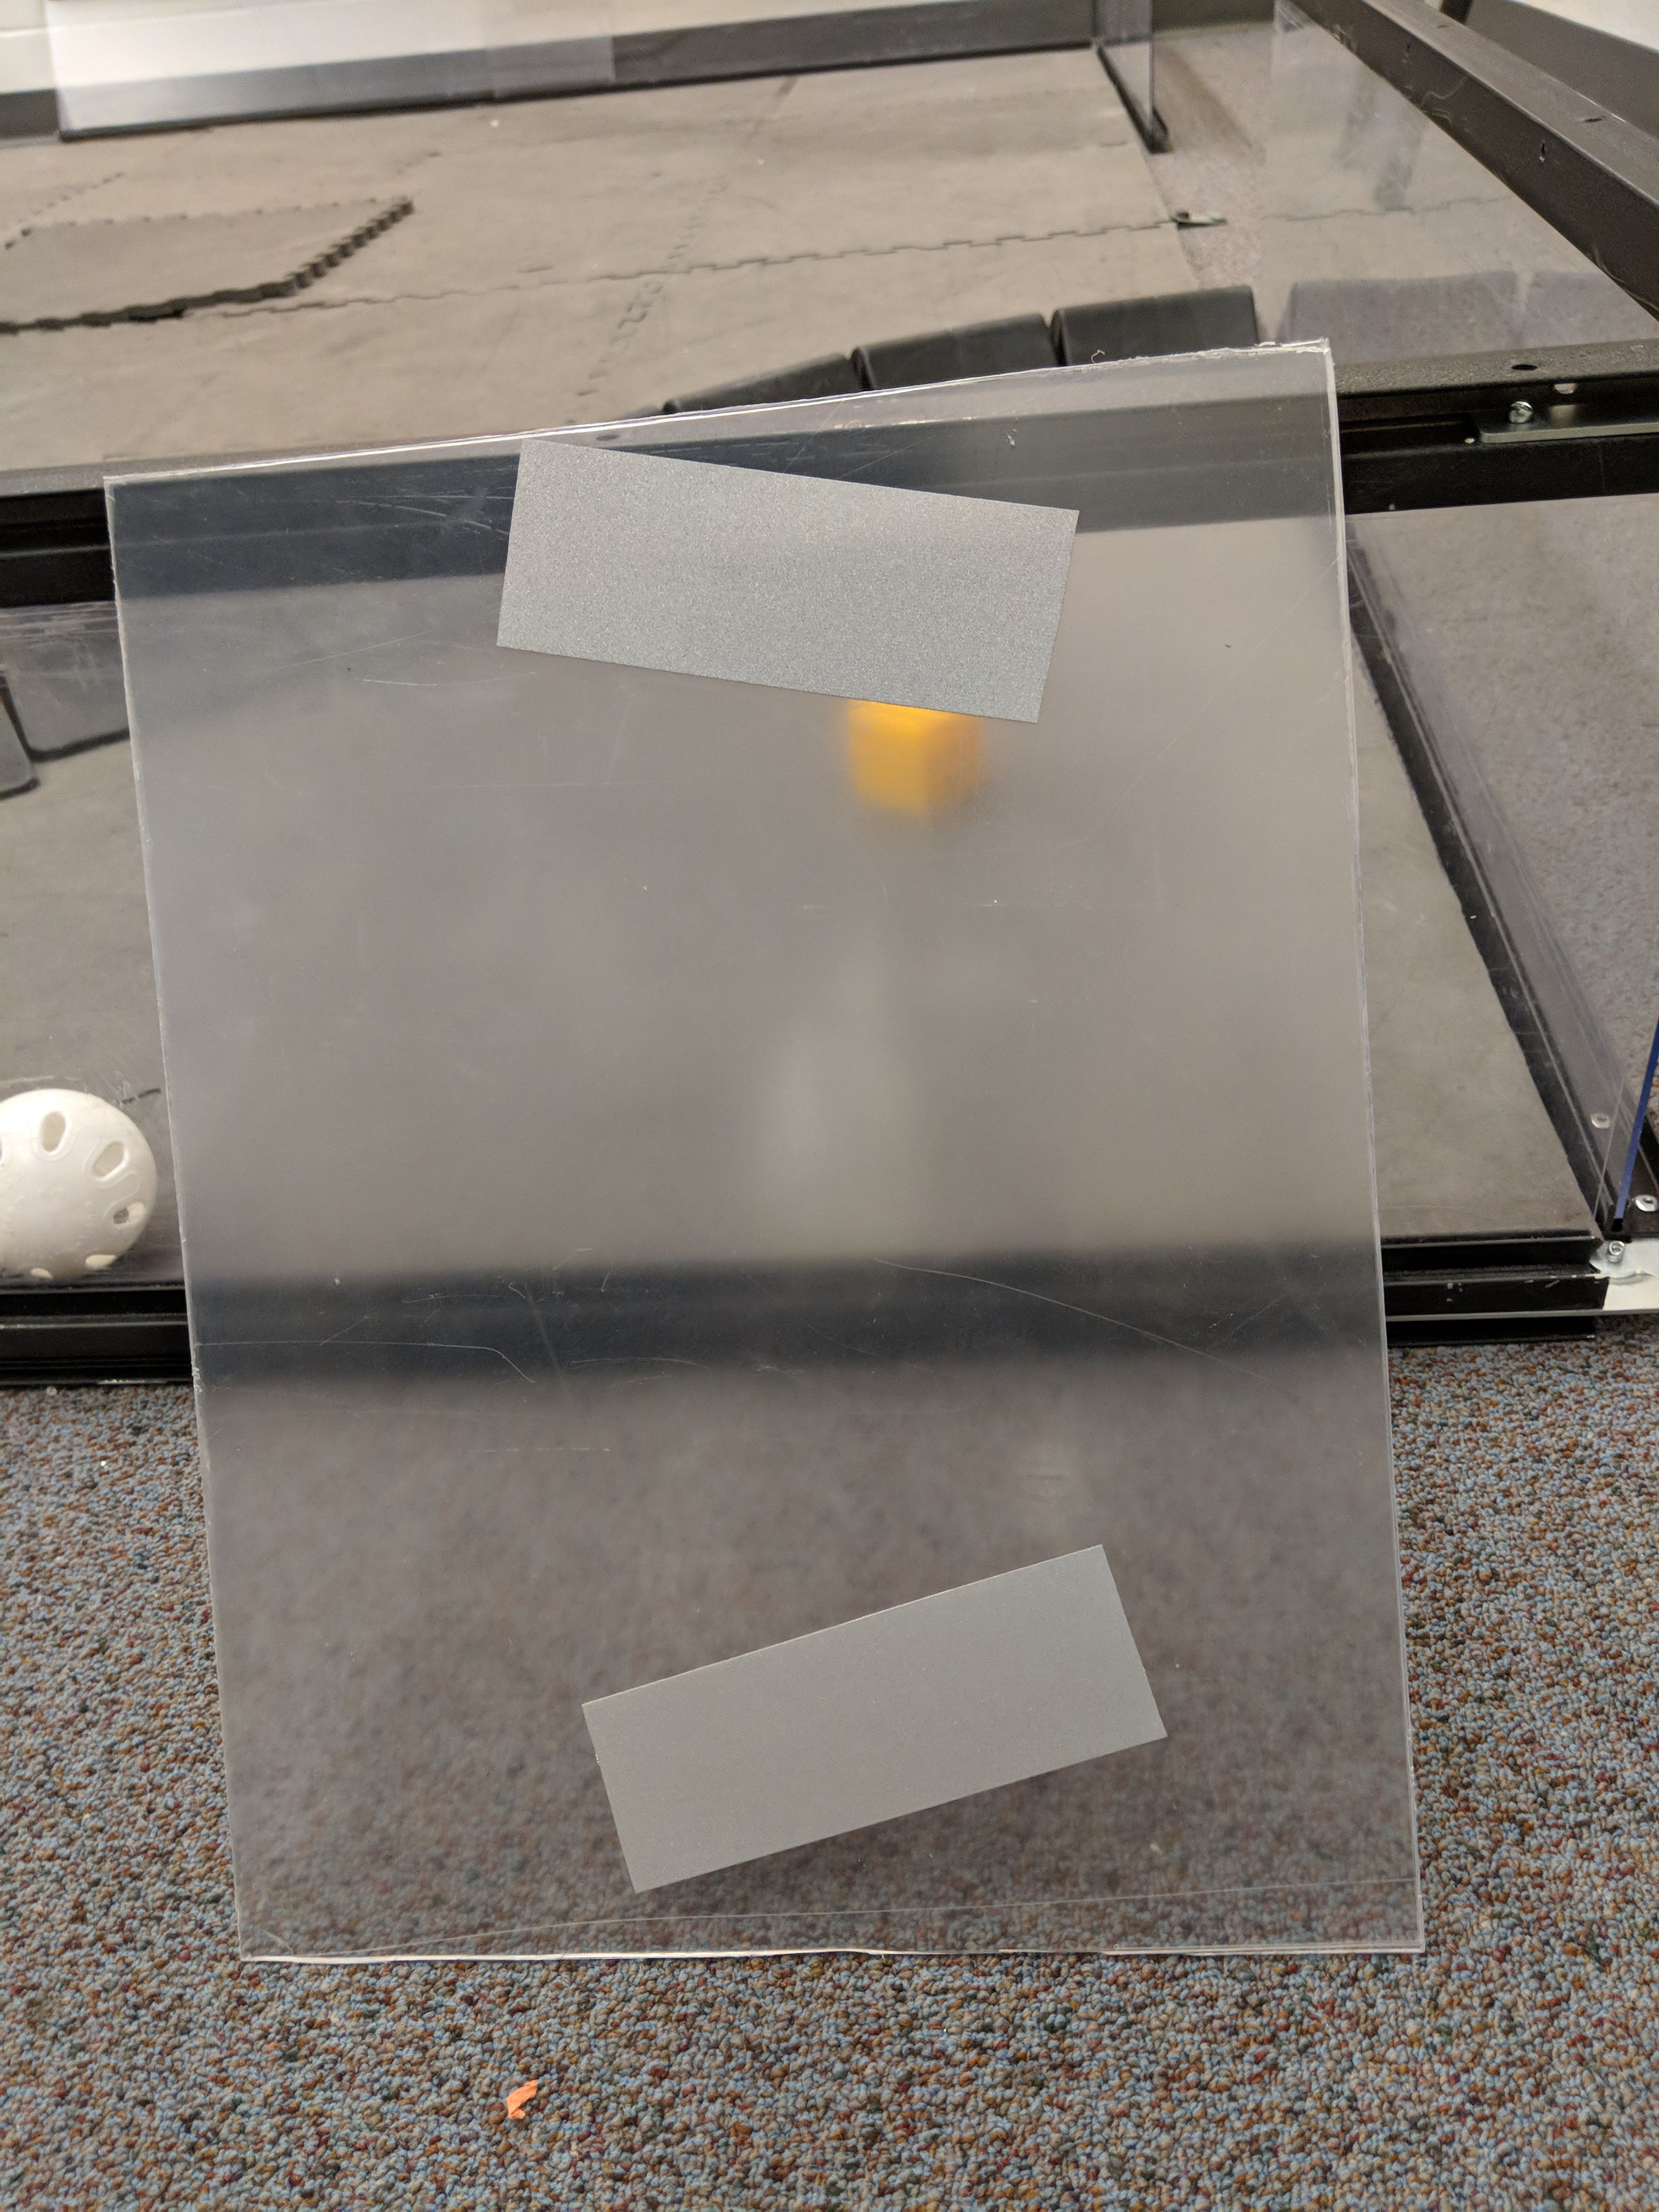vision_target: (476, 425, 1201, 1918)
